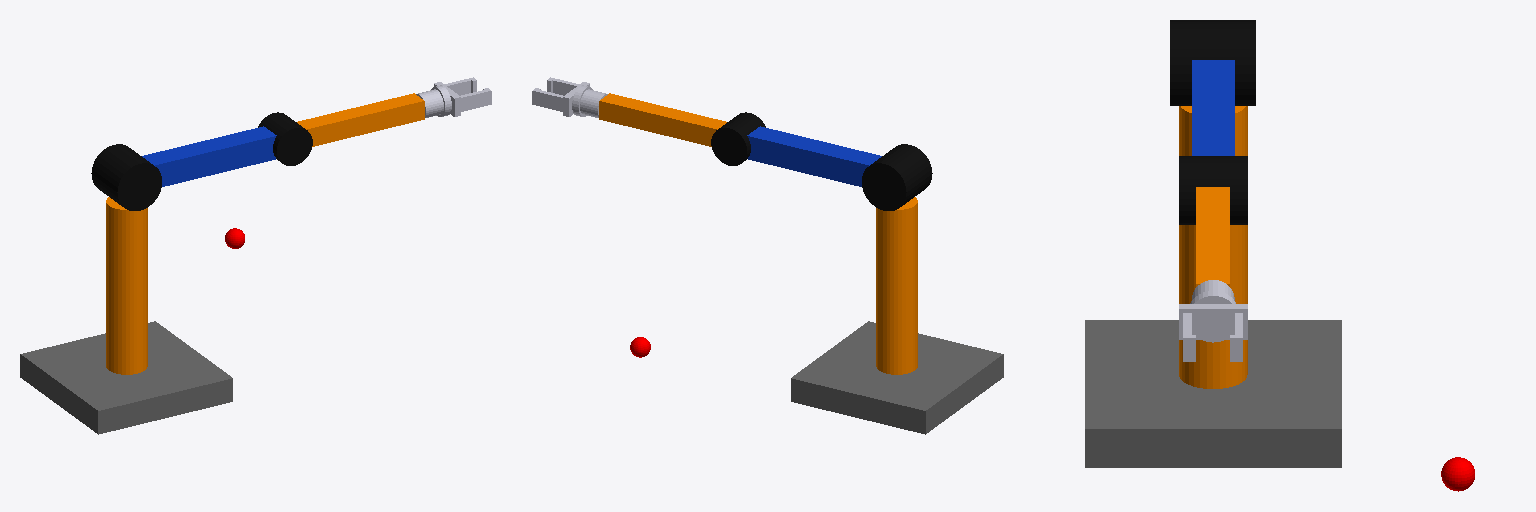
URDF robot description (manipulator):
<?xml version="1.0"?>
<!--
  Лабораторная работа 1.2. Робот-манипулятор с 5 степенями свободы.
  Вариант: г) угловая (антропоморфная) система координат.

  Кинематическая схема:
    joint1 - вращение колонны вокруг вертикальной оси z     (основное звено 1)
    joint2 - вращение «плеча» вокруг горизонтальной оси y    (основное звено 2)
    joint3 - вращение «локтя» вокруг горизонтальной оси y    (основное звено 3)
    joint4 - вращение основания схвата вокруг оси x          (схват, 1-я доп. степень свободы)
    joint5 - вращение основания схвата вокруг оси z          (схват, 2-я доп. степень свободы)

  Три основных звена построены из геометрических примитивов,
  схват - готовая 3D-модель meshes/gripper.stl (начало координат в центре основания,
  губки направлены вдоль оси z).
  Красная сфера-мишень закреплена неподвижно относительно основания (target_joint).
-->
<robot name="manipulator">

  <!-- ================= Материалы ================= -->
  <material name="grey">   <color rgba="0.45 0.45 0.45 1.0"/> </material>
  <material name="orange"> <color rgba="1.0 0.55 0.0 1.0"/>   </material>
  <material name="blue">   <color rgba="0.1 0.3 0.8 1.0"/>    </material>
  <material name="black">  <color rgba="0.1 0.1 0.1 1.0"/>    </material>
  <material name="silver"> <color rgba="0.8 0.8 0.85 1.0"/>   </material>
  <material name="red">    <color rgba="1.0 0.0 0.0 1.0"/>    </material>

  <!-- ================= Основание ================= -->
  <link name="base_link">
    <visual>
      <origin xyz="0 0 0.025" rpy="0 0 0"/>
      <geometry> <box size="0.3 0.3 0.05"/> </geometry>
      <material name="grey"/>
    </visual>
    <collision>
      <origin xyz="0 0 0.025" rpy="0 0 0"/>
      <geometry> <box size="0.3 0.3 0.05"/> </geometry>
    </collision>
    <inertial>
      <origin xyz="0 0 0.025" rpy="0 0 0"/>
      <mass value="5.0"/>
      <inertia ixx="0.0385" ixy="0" ixz="0" iyy="0.0385" iyz="0" izz="0.075"/>
    </inertial>
  </link>

  <!-- ================= Звено 1: колонна ================= -->
  <joint name="joint1" type="revolute">
    <parent link="base_link"/>
    <child link="link1"/>
    <origin xyz="0 0 0.05" rpy="0 0 0"/>
    <axis xyz="0 0 1"/>
    <limit lower="-3.14" upper="3.14" effort="100" velocity="1.0"/>
  </joint>

  <link name="link1">
    <visual>
      <origin xyz="0 0 0.175" rpy="0 0 0"/>
      <geometry> <cylinder radius="0.04" length="0.35"/> </geometry>
      <material name="orange"/>
    </visual>
    <collision>
      <origin xyz="0 0 0.175" rpy="0 0 0"/>
      <geometry> <cylinder radius="0.04" length="0.35"/> </geometry>
    </collision>
    <inertial>
      <origin xyz="0 0 0.175" rpy="0 0 0"/>
      <mass value="1.0"/>
      <inertia ixx="0.0106" ixy="0" ixz="0" iyy="0.0106" iyz="0" izz="0.0008"/>
    </inertial>
  </link>

  <!-- ================= Звено 2: плечо ================= -->
  <joint name="joint2" type="revolute">
    <parent link="link1"/>
    <child link="link2"/>
    <origin xyz="0 0 0.4" rpy="0 0 0"/>
    <axis xyz="0 1 0"/>
    <limit lower="-1.57" upper="1.57" effort="100" velocity="1.0"/>
  </joint>

  <link name="link2">
    <!-- шарнир плеча -->
    <visual>
      <origin xyz="0 0 0" rpy="1.5708 0 0"/>
      <geometry> <cylinder radius="0.05" length="0.1"/> </geometry>
      <material name="black"/>
    </visual>
    <!-- балка плеча -->
    <visual>
      <origin xyz="0.175 0 0" rpy="0 0 0"/>
      <geometry> <box size="0.35 0.05 0.05"/> </geometry>
      <material name="blue"/>
    </visual>
    <collision>
      <origin xyz="0.175 0 0" rpy="0 0 0"/>
      <geometry> <box size="0.35 0.05 0.05"/> </geometry>
    </collision>
    <inertial>
      <origin xyz="0.175 0 0" rpy="0 0 0"/>
      <mass value="0.6"/>
      <inertia ixx="0.00025" ixy="0" ixz="0" iyy="0.0063" iyz="0" izz="0.0063"/>
    </inertial>
  </link>

  <!-- ================= Звено 3: предплечье ================= -->
  <joint name="joint3" type="revolute">
    <parent link="link2"/>
    <child link="link3"/>
    <origin xyz="0.35 0 0" rpy="0 0 0"/>
    <axis xyz="0 1 0"/>
    <limit lower="-2.5" upper="2.5" effort="100" velocity="1.0"/>
  </joint>

  <link name="link3">
    <!-- шарнир локтя -->
    <visual>
      <origin xyz="0 0 0" rpy="1.5708 0 0"/>
      <geometry> <cylinder radius="0.04" length="0.08"/> </geometry>
      <material name="black"/>
    </visual>
    <!-- балка предплечья -->
    <visual>
      <origin xyz="0.15 0 0" rpy="0 0 0"/>
      <geometry> <box size="0.3 0.04 0.04"/> </geometry>
      <material name="orange"/>
    </visual>
    <collision>
      <origin xyz="0.15 0 0" rpy="0 0 0"/>
      <geometry> <box size="0.3 0.04 0.04"/> </geometry>
    </collision>
    <inertial>
      <origin xyz="0.15 0 0" rpy="0 0 0"/>
      <mass value="0.4"/>
      <inertia ixx="0.0001" ixy="0" ixz="0" iyy="0.0031" iyz="0" izz="0.0031"/>
    </inertial>
  </link>

  <!-- ================= Запястье: вращение вокруг оси x ================= -->
  <!-- Поворот rpy="0 1.5708 0" направляет ось z запястья вдоль предплечья -->
  <joint name="joint4" type="revolute">
    <parent link="link3"/>
    <child link="wrist_link"/>
    <origin xyz="0.3 0 0" rpy="0 1.5708 0"/>
    <axis xyz="1 0 0"/>
    <limit lower="-1.57" upper="1.57" effort="20" velocity="1.5"/>
  </joint>

  <link name="wrist_link">
    <visual>
      <origin xyz="0 0 0.02" rpy="0 0 0"/>
      <geometry> <cylinder radius="0.025" length="0.04"/> </geometry>
      <material name="silver"/>
    </visual>
    <collision>
      <origin xyz="0 0 0.02" rpy="0 0 0"/>
      <geometry> <cylinder radius="0.025" length="0.04"/> </geometry>
    </collision>
    <inertial>
      <origin xyz="0 0 0.02" rpy="0 0 0"/>
      <mass value="0.1"/>
      <inertia ixx="0.00003" ixy="0" ixz="0" iyy="0.00003" iyz="0" izz="0.00003"/>
    </inertial>
  </link>

  <!-- ================= Схват: вращение вокруг оси z ================= -->
  <joint name="joint5" type="revolute">
    <parent link="wrist_link"/>
    <child link="gripper_link"/>
    <origin xyz="0 0 0.04" rpy="0 0 0"/>
    <axis xyz="0 0 1"/>
    <limit lower="-3.14" upper="3.14" effort="20" velocity="1.5"/>
  </joint>

  <link name="gripper_link">
    <visual>
      <origin xyz="0 0 0" rpy="0 0 0"/>
      <geometry> <mesh filename="package://lab1_2_manipulator/meshes/gripper.stl"/> </geometry>
      <material name="silver"/>
    </visual>
    <collision>
      <origin xyz="0 0 0.05" rpy="0 0 0"/>
      <geometry> <box size="0.04 0.08 0.1"/> </geometry>
    </collision>
    <inertial>
      <origin xyz="0 0 0.04" rpy="0 0 0"/>
      <mass value="0.2"/>
      <inertia ixx="0.0003" ixy="0" ixz="0" iyy="0.0002" iyz="0" izz="0.0001"/>
    </inertial>
  </link>

  <!-- ================= Красная сфера-мишень ================= -->
  <!-- Координаты рассчитаны так, чтобы в конечном положении
       (config/joints.yaml -> goal) сфера находилась между губками схвата -->
  <joint name="target_joint" type="fixed">
    <parent link="base_link"/>
    <child link="target_sphere"/>
    <origin xyz="0.4052 0.2853 0.1109" rpy="0 0 0"/>
  </joint>

  <link name="target_sphere">
    <visual>
      <geometry> <sphere radius="0.02"/> </geometry>
      <material name="red"/>
    </visual>
  </link>

</robot>

--- What the picture shows (computed from the rendered views, not written in the file) ---
The picture shows the robot from 3 angles, left to right: view 1: azimuth 30°, elevation 25°; view 2: azimuth 150°, elevation 25°; view 3: azimuth 270°, elevation 25°; orthographic projection.
Model manipulator with 7 links and 6 joints (5 revolute, 1 fixed), rooted at base_link, posed all joints at 0.
Links seen in each view (by area): view 1: base_link, link2, link1, link3, gripper_link; view 2: base_link, link2, link1, link3, gripper_link; view 3: base_link, link2, link3, link1, gripper_link, target_sphere.
Boxes of the visible links, <box> form: base_link: <box>20,321,232,434</box>; link2: <box>91,126,276,210</box>; link1: <box>106,197,147,374</box>; link3: <box>258,93,424,165</box>; gripper_link: <box>431,77,491,116</box>; base_link: <box>791,321,1003,434</box>; link2: <box>747,126,932,210</box>; link1: <box>876,197,917,374</box>; link3: <box>599,93,765,165</box>; gripper_link: <box>532,77,592,116</box>; base_link: <box>1085,320,1341,467</box>; link2: <box>1170,20,1255,155</box>; link3: <box>1179,156,1247,286</box>; link1: <box>1179,106,1247,388</box>; gripper_link: <box>1179,290,1247,361</box>; target_sphere: <box>1441,457,1474,491</box>.
Bounding box of the posed robot: 0.94 × 0.4553 × 0.5 m (x, y, z).
Meshes: 1 distinct files referenced, 1 mesh visuals loaded (1 binary STL).
